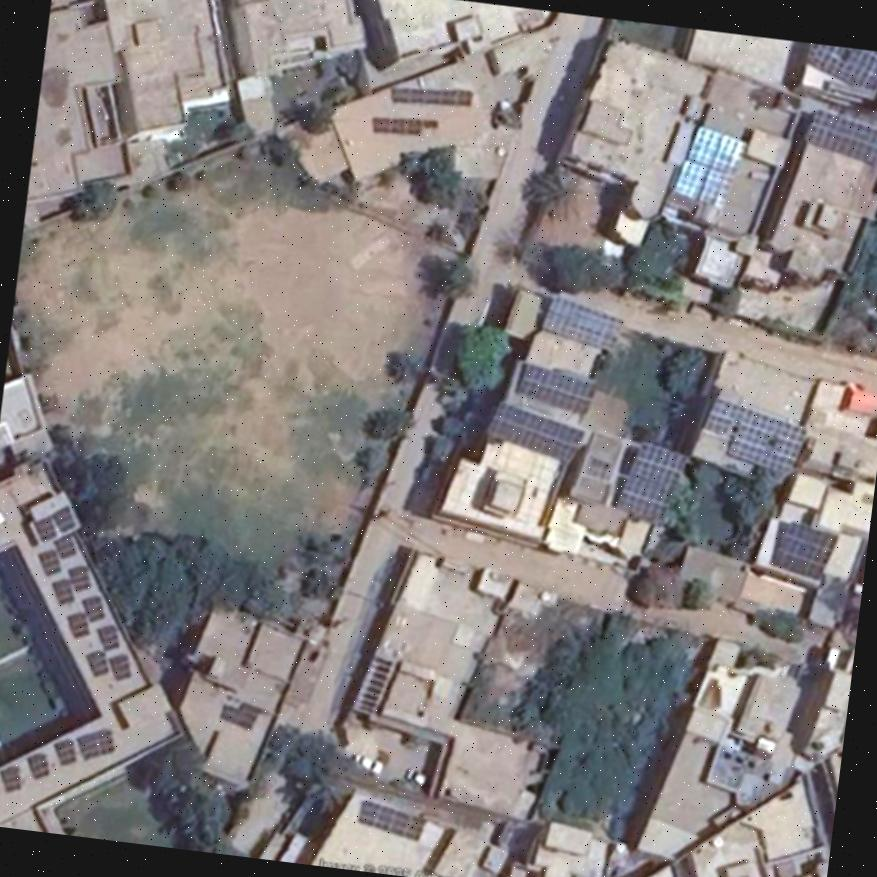Solarpanel: (694, 394, 805, 475), (673, 122, 747, 208), (614, 442, 688, 521), (484, 404, 582, 459), (540, 295, 622, 349), (516, 362, 596, 413), (805, 108, 877, 163), (774, 521, 837, 578), (806, 43, 877, 91), (358, 799, 425, 840), (391, 85, 471, 102), (77, 727, 113, 757), (372, 116, 419, 133), (220, 705, 255, 727), (53, 506, 75, 531), (29, 752, 48, 778), (38, 551, 60, 573), (112, 653, 130, 679), (87, 653, 107, 676), (54, 578, 74, 599), (54, 535, 75, 555), (84, 596, 103, 618), (57, 741, 75, 764), (98, 626, 117, 646), (2, 768, 21, 787), (69, 614, 87, 634), (35, 516, 53, 536), (71, 567, 87, 587)
